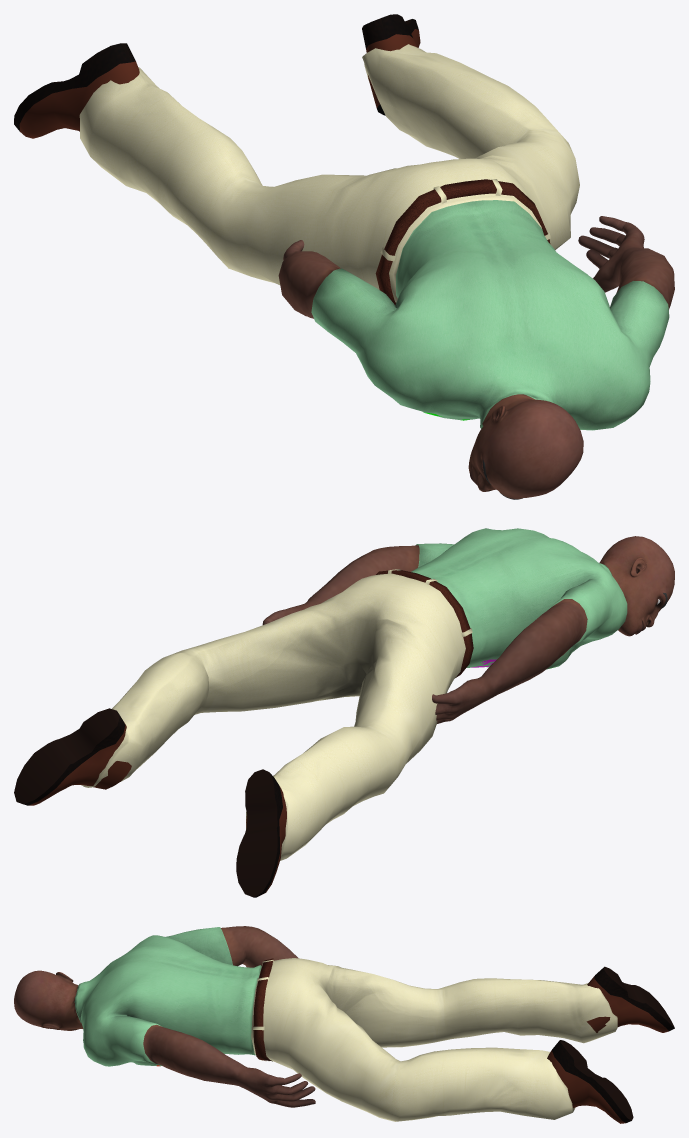
Rendered from token_dead.obj.
3 views of the same model, one above another, from view 1: azimuth 30°, elevation 25°; view 2: azimuth 150°, elevation 25°; view 3: azimuth 270°, elevation 25° (orthographic). The views are drawn at different scales.
Visible parts, largest first — view 1: death_stops_us_all; view 2: death_stops_us_all; view 3: death_stops_us_all.
Part boxes in pixels (x1,y1,x2,y2): death_stops_us_all: [14, 14, 674, 499]; death_stops_us_all: [14, 528, 674, 897]; death_stops_us_all: [14, 926, 674, 1123].
Bounding box in the file's own units: 19.34 × 7.29 × 42.02.
